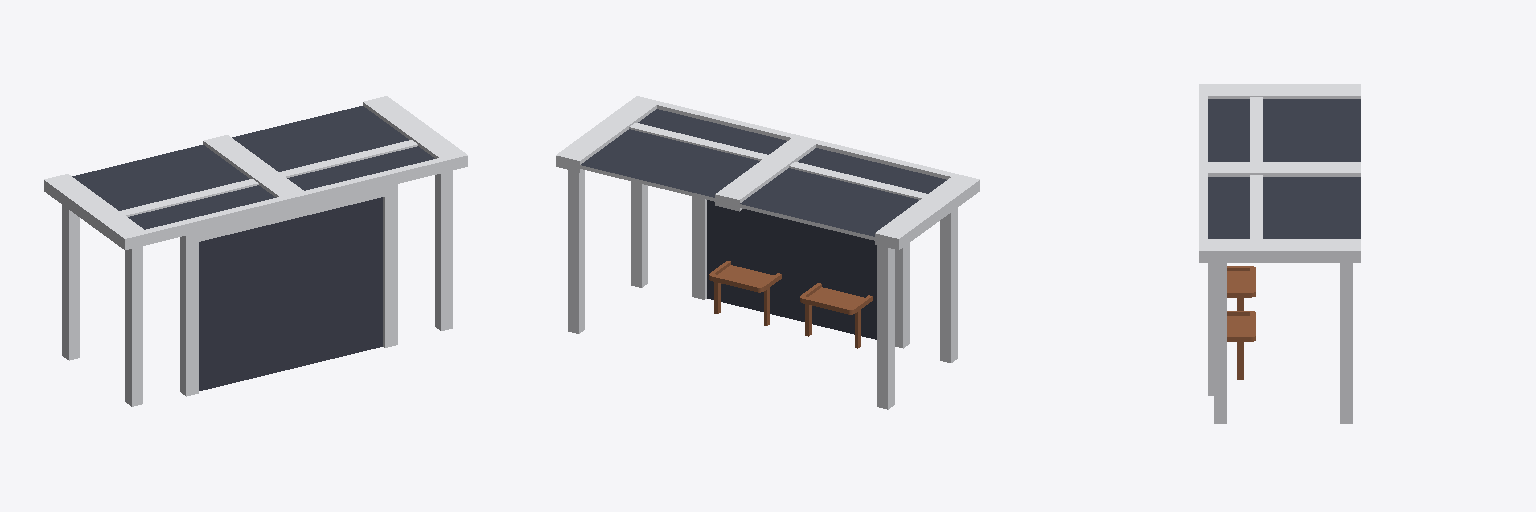
File: busstop.obj
The picture shows the model from 3 angles: view 1: azimuth 30°, elevation 25°; view 2: azimuth 150°, elevation 25°; view 3: azimuth 270°, elevation 25°; orthographic projection.
Size of the model in its own units: 1.89 by 0.93 by 0.7738.